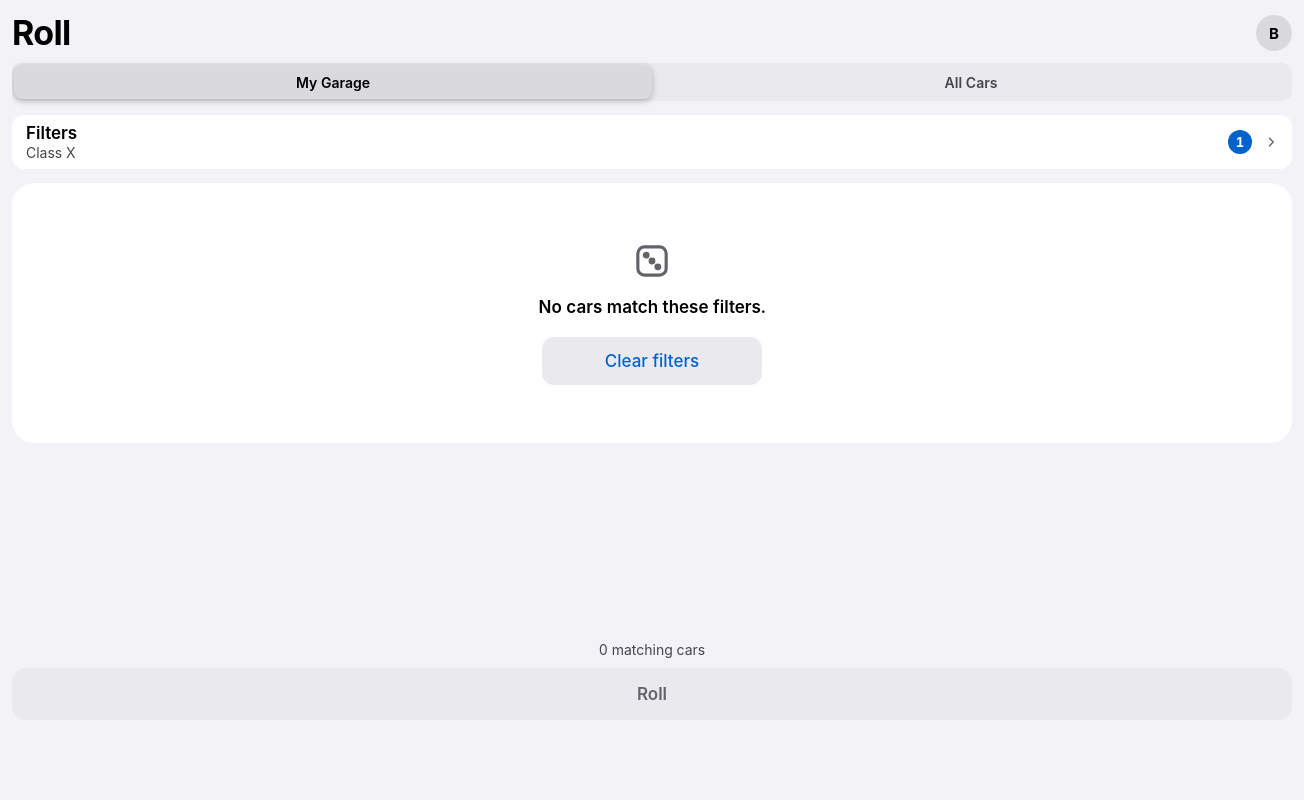
Test: Roll › no matches disables Roll and Clear filters resets
This screenshot has width=1304, height=800.
Expected: the text "No cars match these filters." is shown, [538,297,765,317]
Expected: the button "Roll" is disabled, [12,668,1292,720]
Click the button "Clear filters".
click(652, 361)  # box [542,337,762,385]
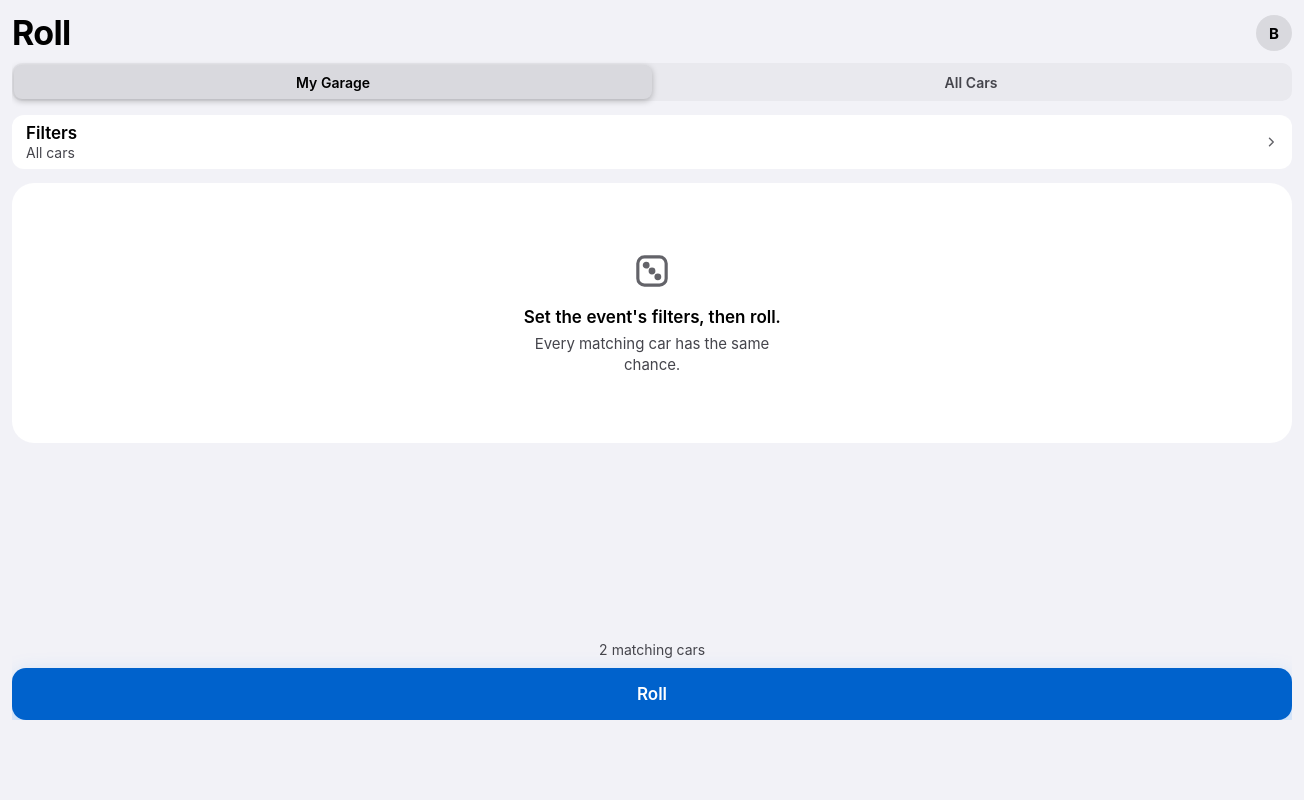
Now the text "2 matching cars" is shown, box [599,641,705,658]
Now the button "Roll" is enabled, box [12,668,1292,720]
